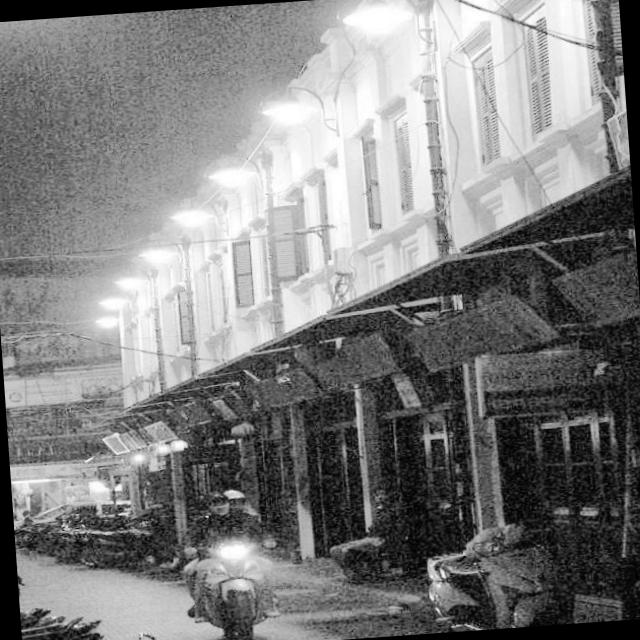Motorcycle: (398, 528, 640, 635), (148, 517, 303, 640)
